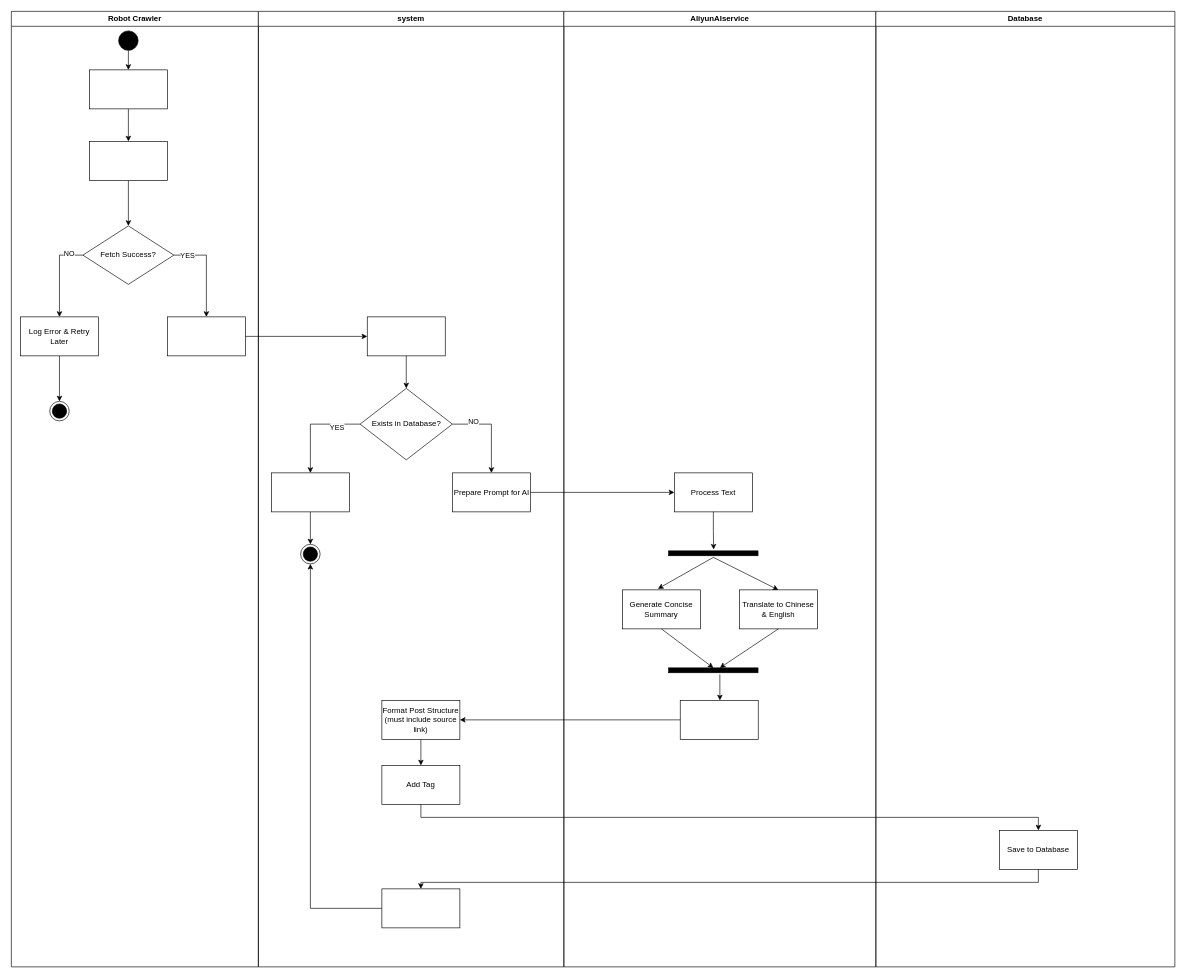
This 1186x978 diagram has some shape labels left out. The centre of each missing label's shape, as x and y in pixels:
"Check Duplicate (By URL)" belongs at point 406,336.
"Extract Title,Link,Content" belongs at point 206,336.
"Fetch RSS Whitelist Sources" belongs at point 128,160.
"Push Notification to Users" belongs at point 420,908.
"Return Processed Data" belongs at point 719,719.
"Skip (Ignore)" belongs at point 310,492.
"Trigger Scheduled Task" belongs at point 128,89.
